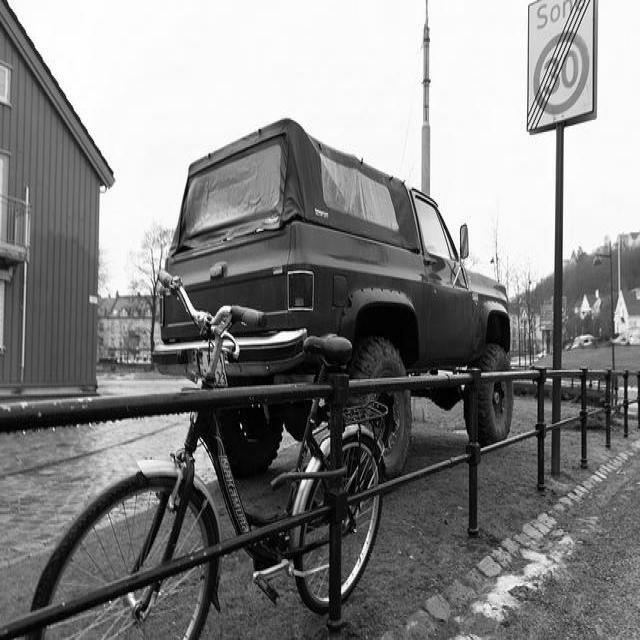vehicle: (149, 122, 518, 487), (571, 334, 596, 348)
